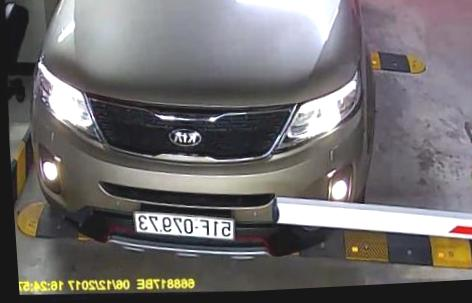License_Plate: (121, 197, 245, 255)
